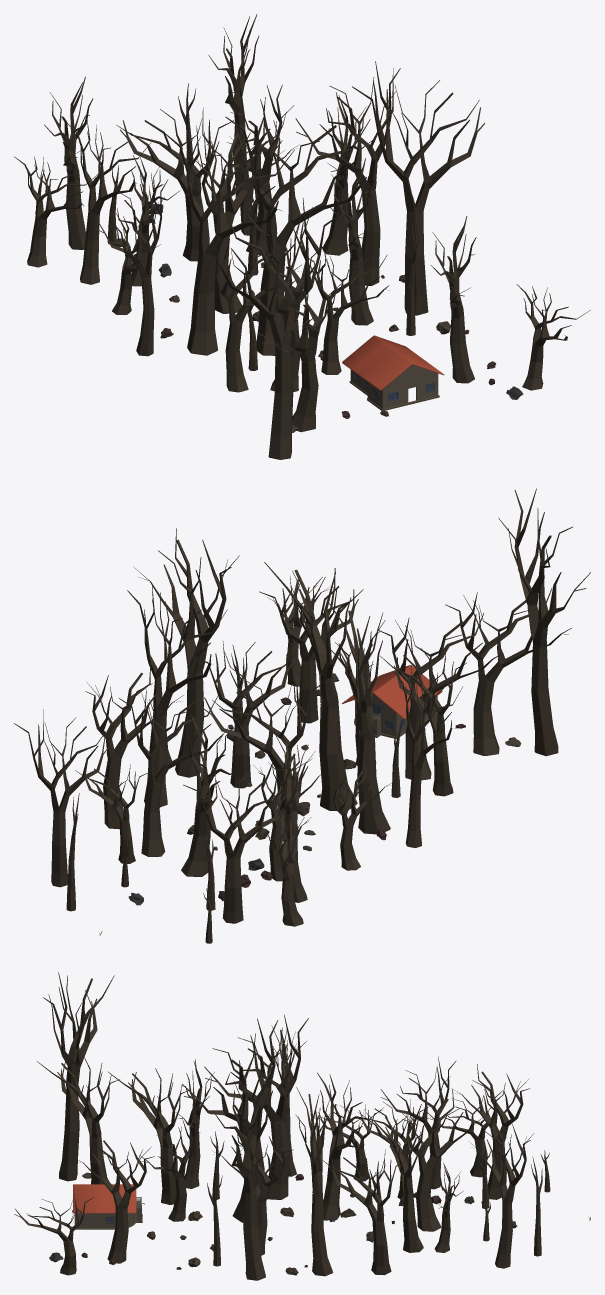
File: house_trees_rocks 2.glb
3 renders of one model, top to bottom at view 1: azimuth 30°, elevation 25°; view 2: azimuth 150°, elevation 25°; view 3: azimuth 270°, elevation 25°, orthographic. The views are drawn at different scales.
Parts seen in each view (by area): view 1: Tree_015, Tree_023, Tree_013, Tree_021, Tree_003.001, Tree_006.001, Tree_018, Tree_011.001, Cube.009, Tree_012, Tree_002, Tree_004 (+15 smaller); view 2: Tree_013, Tree_015, Tree_021, Tree_023, Tree_006.001, Tree_003.001, Tree_020, Tree_019, Tree_027, Tree_024, Tree_006, Tree_003 (+14 smaller); view 3: Tree_015, Tree_021, Tree_023, Tree_013, Tree_003.001, Tree_018, Tree_006, Tree_027, Tree_012, Tree_024.001, Tree_003, Tree_006.001 (+16 smaller).
Boxes of the visible parts, x1,y1,x2,y2 form: Tree_015: (215, 198, 343, 459); Tree_023: (163, 125, 294, 355); Tree_013: (225, 105, 370, 355); Tree_021: (352, 68, 484, 315); Tree_003.001: (295, 61, 400, 285); Tree_006.001: (258, 260, 343, 432); Tree_018: (116, 107, 233, 261); Tree_011.001: (67, 119, 151, 284); Cube.009: (342, 335, 444, 390); Tree_012: (188, 121, 284, 313); Tree_002: (207, 232, 301, 392); Tree_004: (96, 173, 168, 356); Tree_013: (264, 562, 357, 810); Tree_015: (498, 488, 590, 756); Tree_021: (134, 528, 239, 777); Tree_023: (329, 603, 390, 834); Tree_006.001: (445, 588, 571, 755); Tree_003.001: (127, 583, 227, 807); Tree_020: (119, 689, 222, 856); Tree_019: (183, 769, 287, 923); Tree_027: (14, 709, 108, 887); Tree_024: (192, 641, 296, 788); Tree_006: (377, 613, 503, 780); Tree_003: (85, 663, 183, 829); Tree_015: (43, 972, 114, 1181); Tree_021: (213, 1067, 272, 1280); Tree_023: (204, 1014, 308, 1199); Tree_013: (182, 1018, 287, 1222); Tree_003.001: (295, 1087, 334, 1276); Tree_018: (399, 1089, 487, 1231); Tree_006: (107, 1068, 190, 1204); Tree_027: (471, 1117, 533, 1268); Tree_012: (317, 1072, 383, 1220); Tree_024.001: (75, 1132, 154, 1263); Tree_003: (321, 1149, 406, 1275); Tree_006.001: (37, 1057, 119, 1184).
Bounding box in the file's own units: 46.77 × 31.62 × 77.99.
